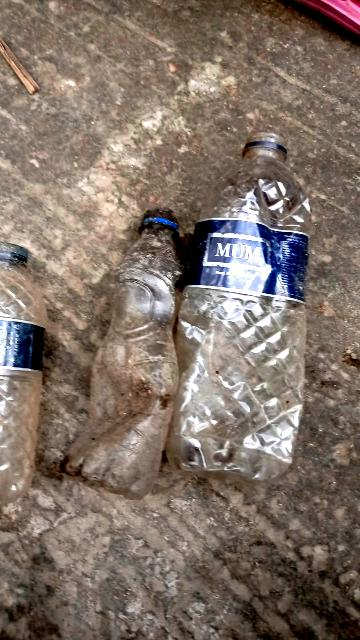bottle: (169, 146, 331, 506), (49, 197, 198, 501), (0, 240, 47, 530)
